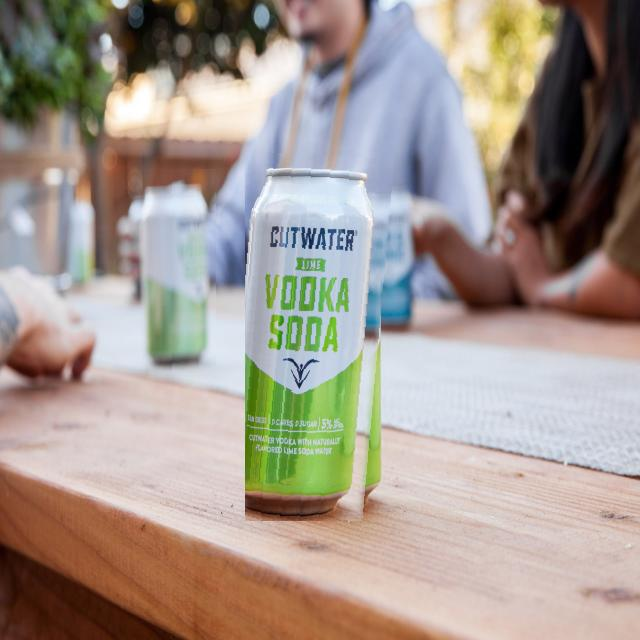Cans: (245, 145, 395, 521), (131, 169, 216, 377)
